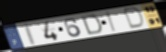4: (44, 21, 60, 42)
6: (63, 18, 83, 38)
D: (123, 6, 146, 30), (80, 14, 104, 36)
I: (24, 22, 38, 47), (105, 10, 118, 33)
